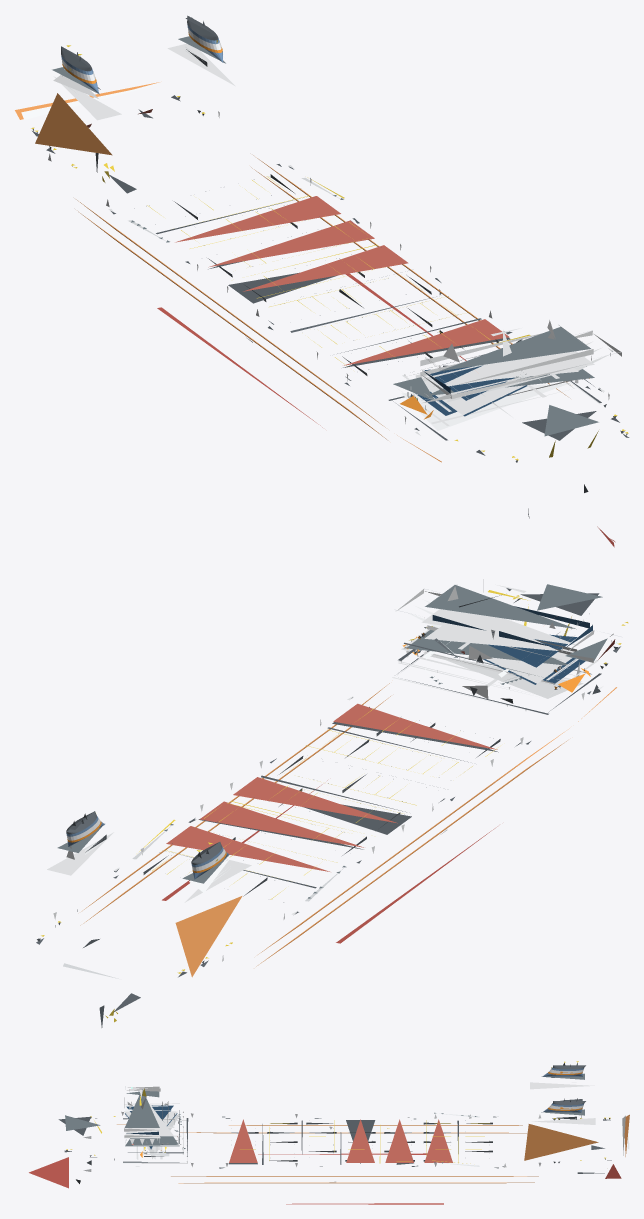
File: ship_35.glb
3 views of the same model, one above another, from view 1: azimuth 30°, elevation 25°; view 2: azimuth 150°, elevation 25°; view 3: azimuth 270°, elevation 25° (orthographic). The views are drawn at different scales.
Visible parts, largest first — view 1: TrueHelm_Ship_35; view 2: TrueHelm_Ship_35; view 3: TrueHelm_Ship_35.
Boxes of the visible parts, bbox=[...] form: TrueHelm_Ship_35: bbox=[15, 15, 629, 547]; TrueHelm_Ship_35: bbox=[36, 579, 628, 1027]; TrueHelm_Ship_35: bbox=[29, 1061, 629, 1204].
Size of the model in its own units: 0.1902 by 0.1642 by 0.87.
